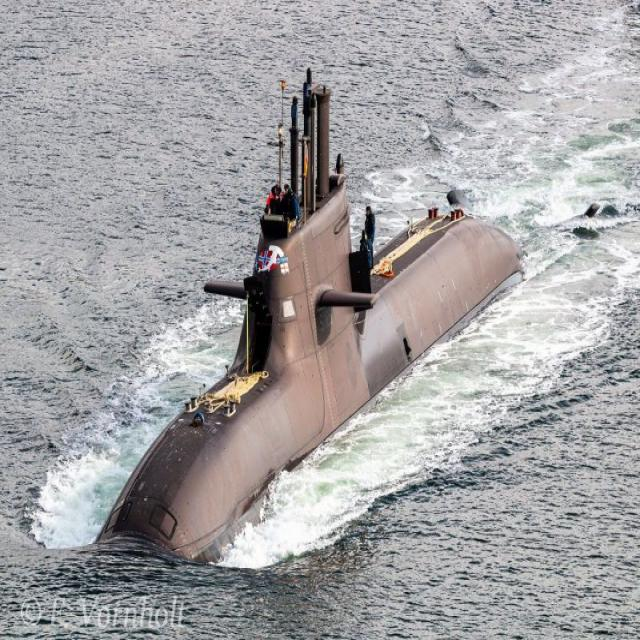submarine: (78, 48, 575, 572)
